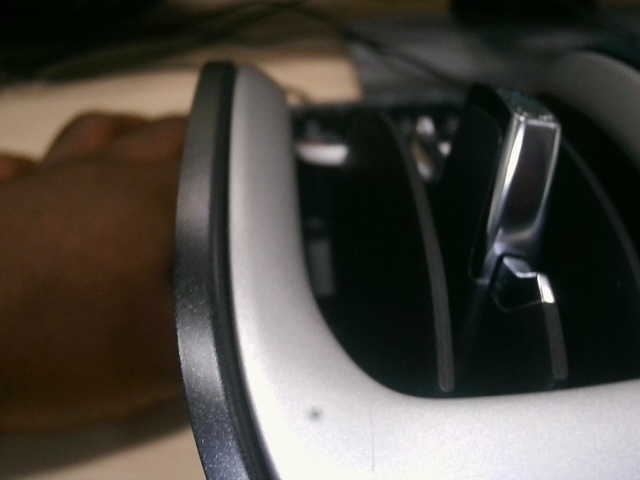NG: (360, 407, 388, 480), (172, 268, 199, 322)
